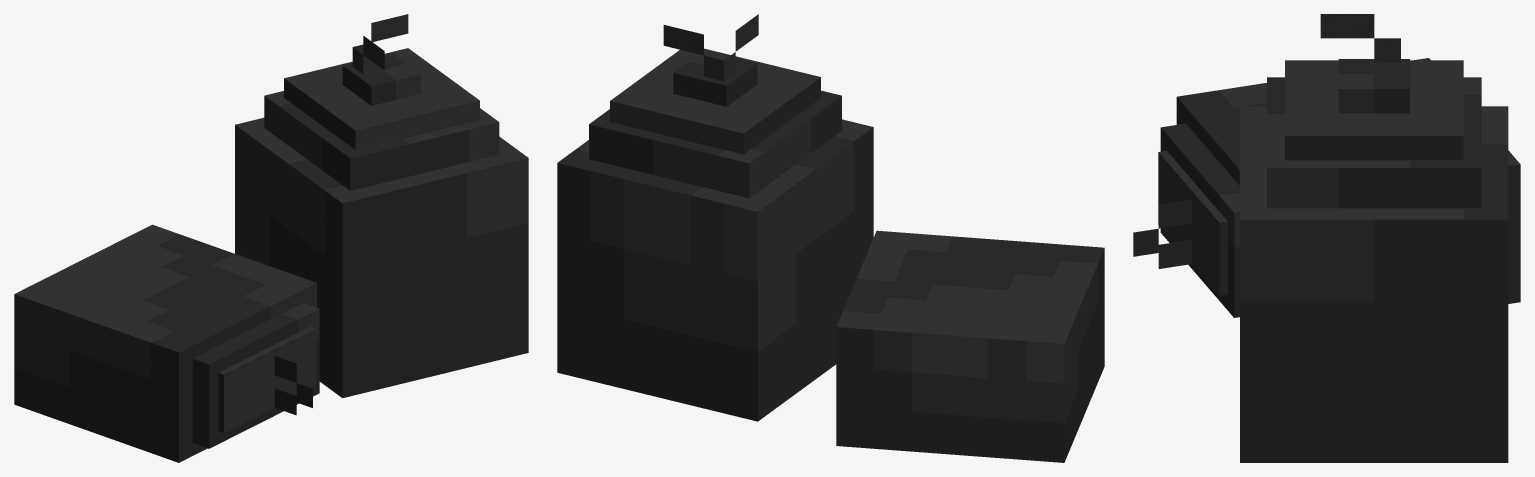
The model's file is trash.fbx.
The picture shows the model from 3 angles, left to right: view 1: azimuth 30°, elevation 25°; view 2: azimuth 150°, elevation 25°; view 3: azimuth 270°, elevation 25°; orthographic projection. The views are drawn at different scales.
Visible parts, largest first — view 1: cube, cube_9, cube_1, cube_2, cube_10, cube_8, cube_3, cube_6; view 2: cube, cube_9, cube_1, cube_2, cube_3, cube_6; view 3: cube, cube_2, cube_1, cube_9, cube_10, cube_8, cube_3, cube_7, cube_11, cube_12, cube_5, cube_13.
Part boxes in pixels (x1=…): cube: x1=235, y1=117, x2=528, y2=398; cube_9: x1=14, y1=224, x2=316, y2=462; cube_1: x1=264, y1=91, x2=499, y2=190; cube_2: x1=284, y1=48, x2=479, y2=149; cube_10: x1=192, y1=303, x2=319, y2=448; cube_8: x1=218, y1=326, x2=315, y2=432; cube_3: x1=342, y1=53, x2=420, y2=105; cube_6: x1=371, y1=14, x2=408, y2=42; cube: x1=557, y1=119, x2=873, y2=421; cube_9: x1=836, y1=230, x2=1104, y2=462; cube_1: x1=589, y1=90, x2=841, y2=198; cube_2: x1=610, y1=48, x2=820, y2=154; cube_3: x1=673, y1=50, x2=757, y2=106; cube_6: x1=663, y1=25, x2=703, y2=55; cube: x1=1240, y1=106, x2=1508, y2=462; cube_2: x1=1285, y1=60, x2=1463, y2=160; cube_1: x1=1267, y1=77, x2=1481, y2=208; cube_9: x1=1176, y1=58, x2=1520, y2=303; cube_10: x1=1160, y1=123, x2=1239, y2=317; cube_8: x1=1158, y1=150, x2=1227, y2=295; cube_3: x1=1338, y1=59, x2=1409, y2=113; cube_7: x1=1320, y1=14, x2=1374, y2=38; cube_11: x1=1158, y1=199, x2=1191, y2=228; cube_12: x1=1158, y1=239, x2=1191, y2=268; cube_5: x1=1374, y1=38, x2=1400, y2=62; cube_13: x1=1133, y1=228, x2=1158, y2=256.
Bounding box in the file's own units: 44.2 × 29.38 × 27.07.
Materials: 1 (1 with a texture image).
